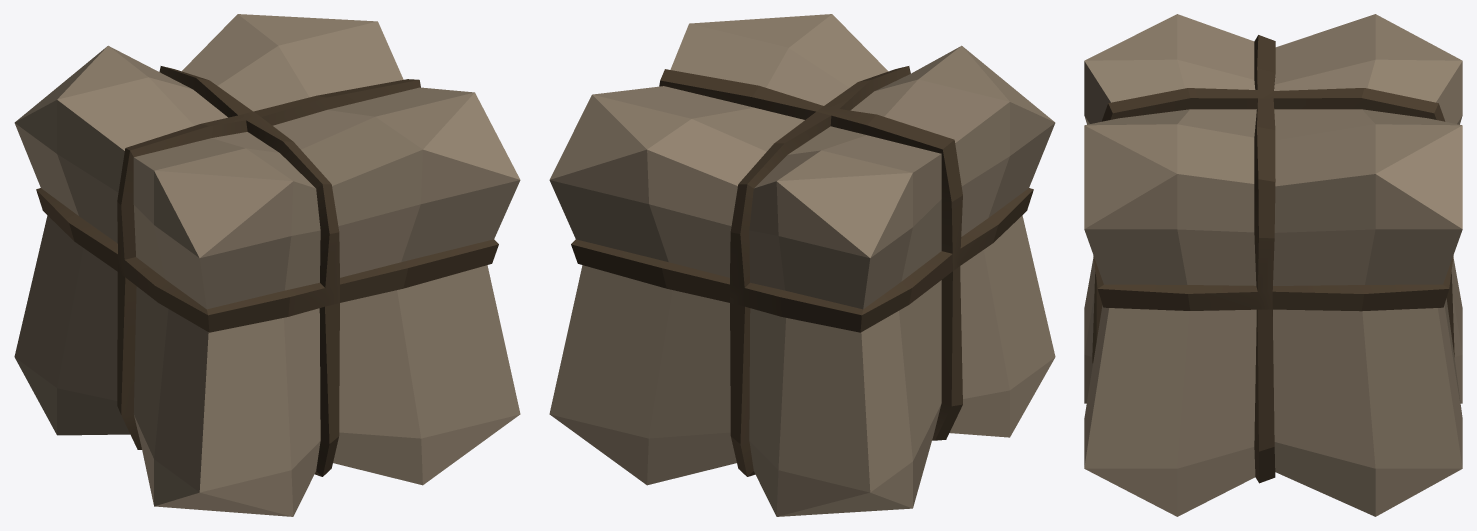
Rendered from SM_Prop_Crate_Covered_01.glb.
The picture shows the model from 3 angles, left to right: view 1: azimuth 30°, elevation 25°; view 2: azimuth 150°, elevation 25°; view 3: azimuth 270°, elevation 25°; orthographic projection. The views are drawn at different scales.
Parts seen in each view (by area): view 1: SM_Prop_Crate_Covered_01; view 2: SM_Prop_Crate_Covered_01; view 3: SM_Prop_Crate_Covered_01.
Boxes of the visible parts, x1,y1,x2,y2 form: SM_Prop_Crate_Covered_01: (14,14,520,516); SM_Prop_Crate_Covered_01: (549,14,1055,516); SM_Prop_Crate_Covered_01: (1084,14,1462,516).
Bounding box in the file's own units: 0.00626 × 0.00626 × 0.00626.
